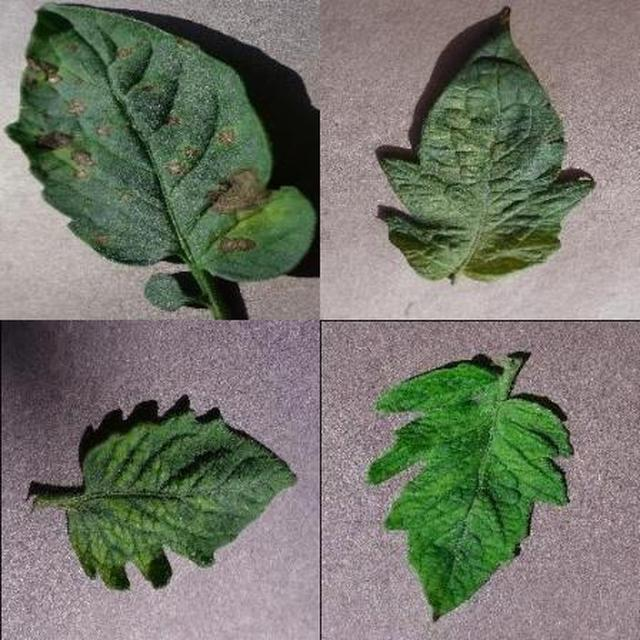Early Blight Leaf: (233, 200, 640, 640)
